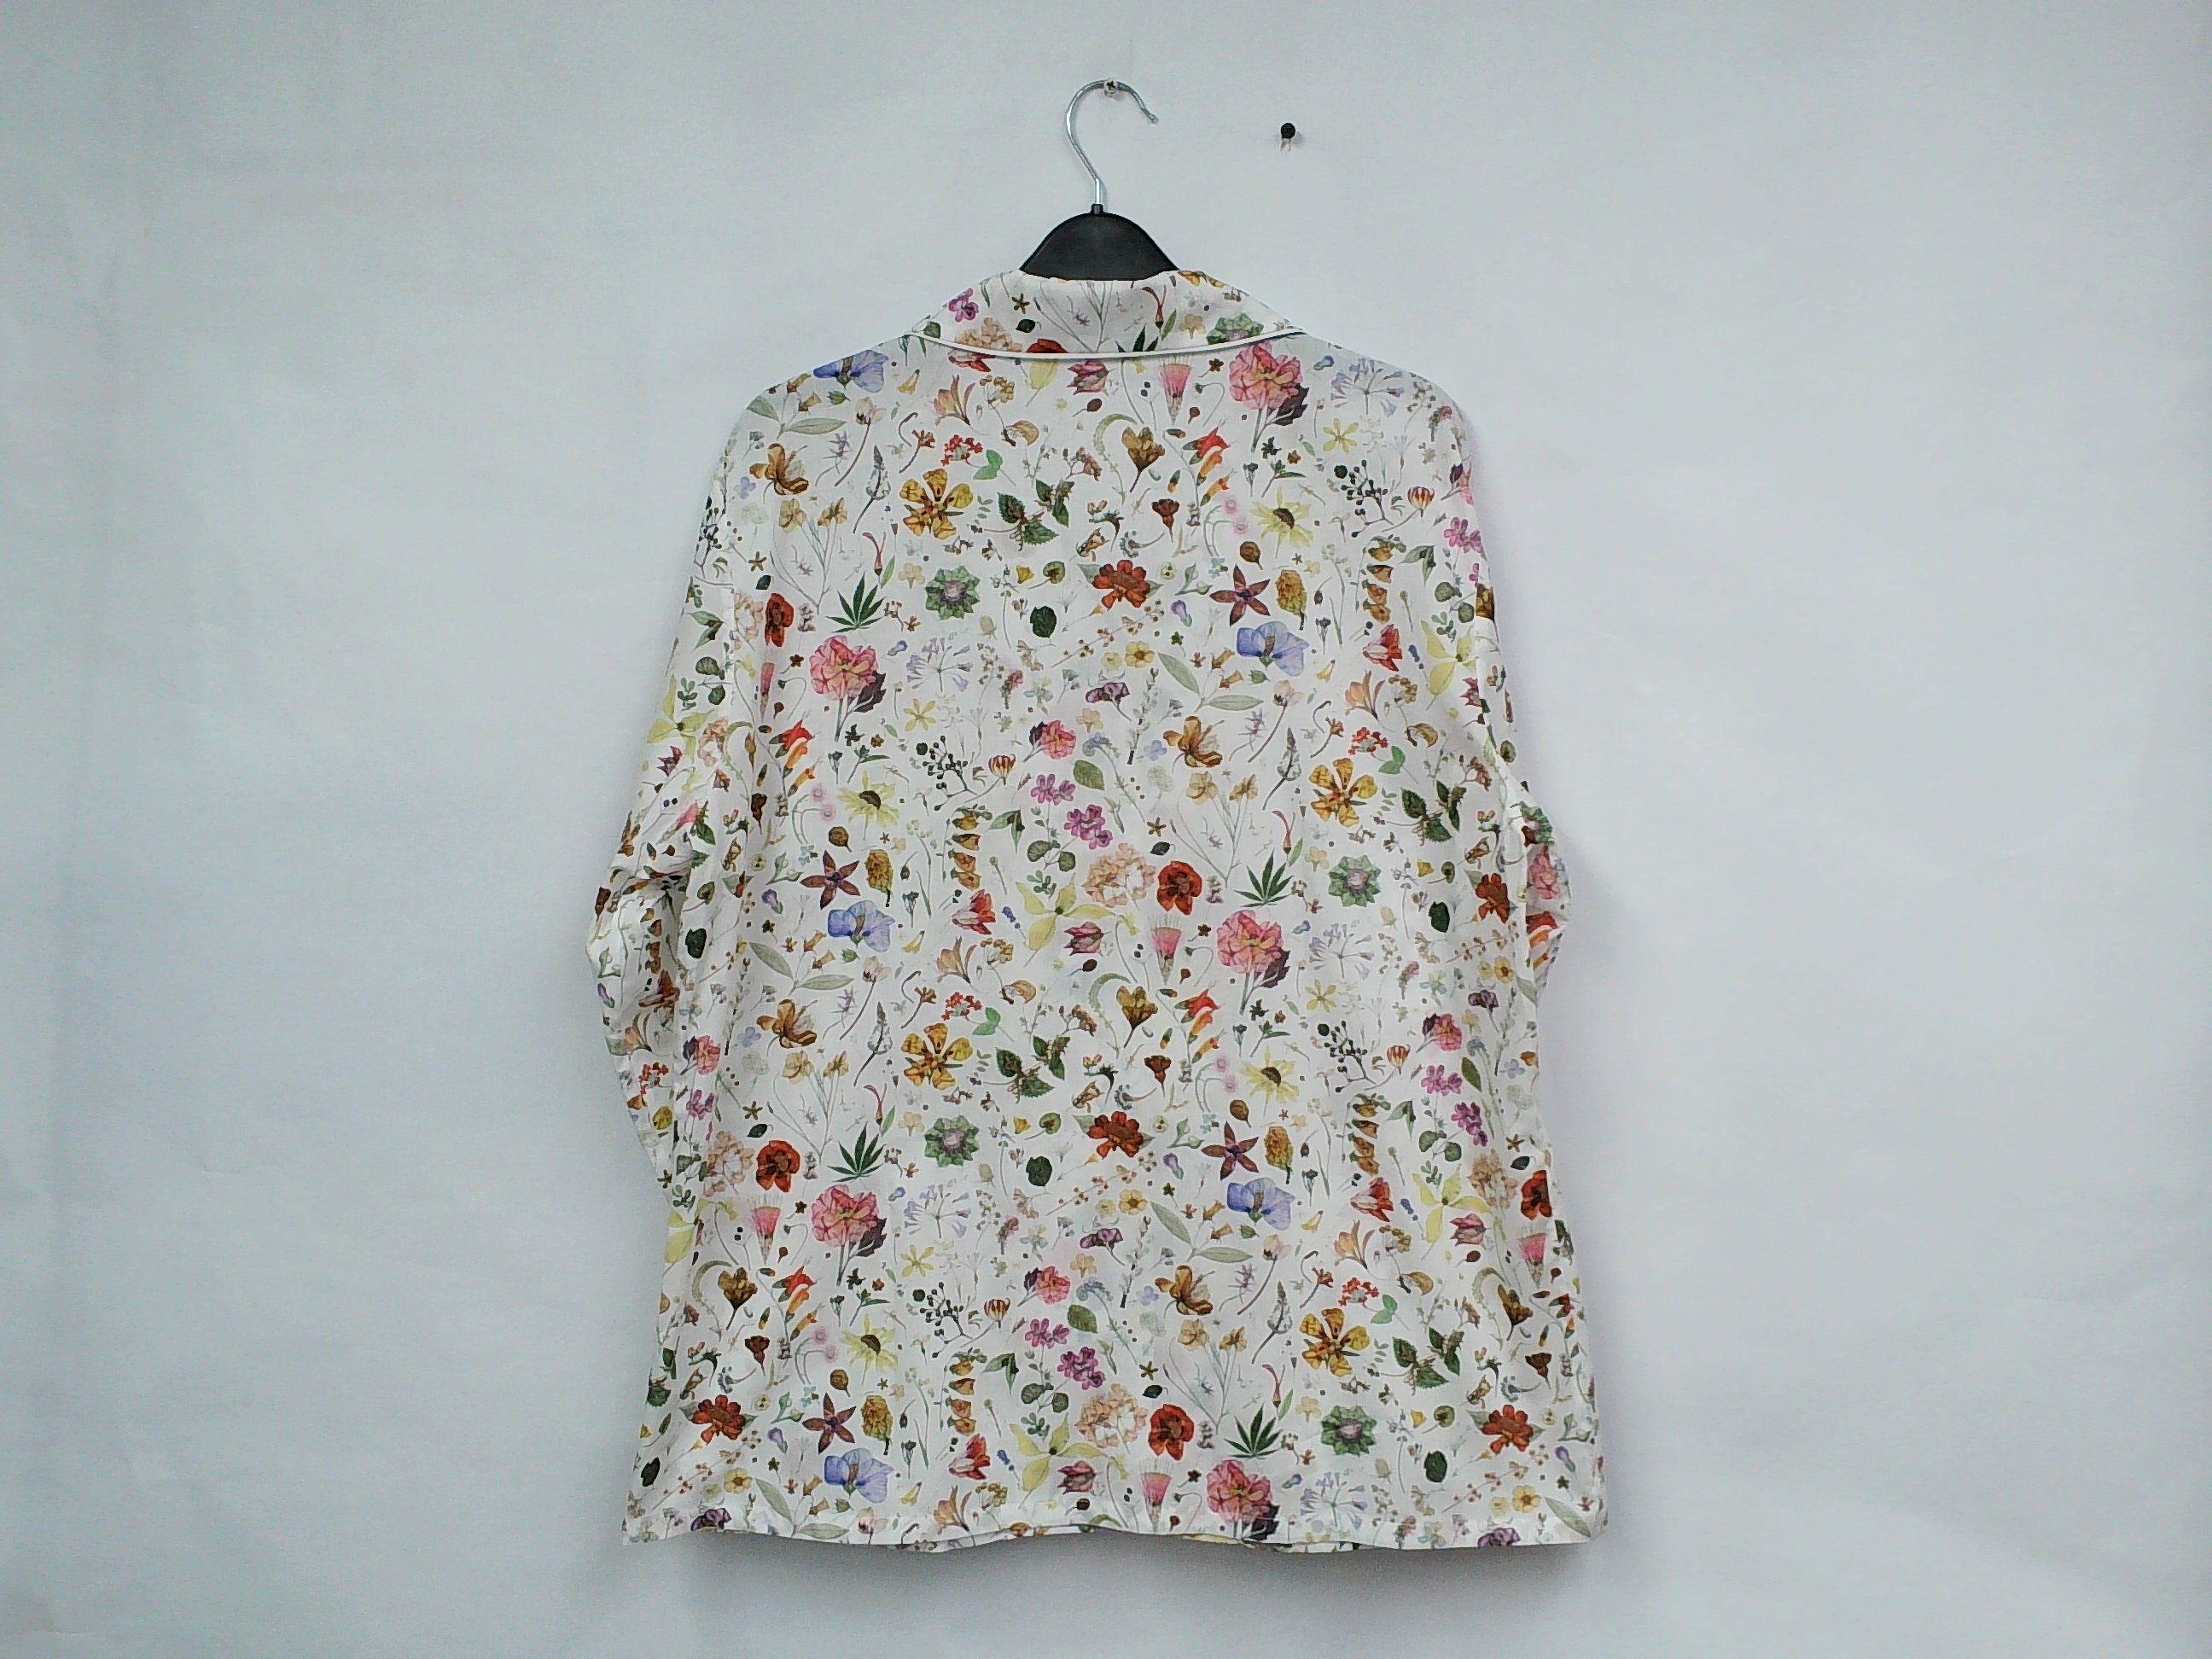seam: (897, 305, 1315, 382)
